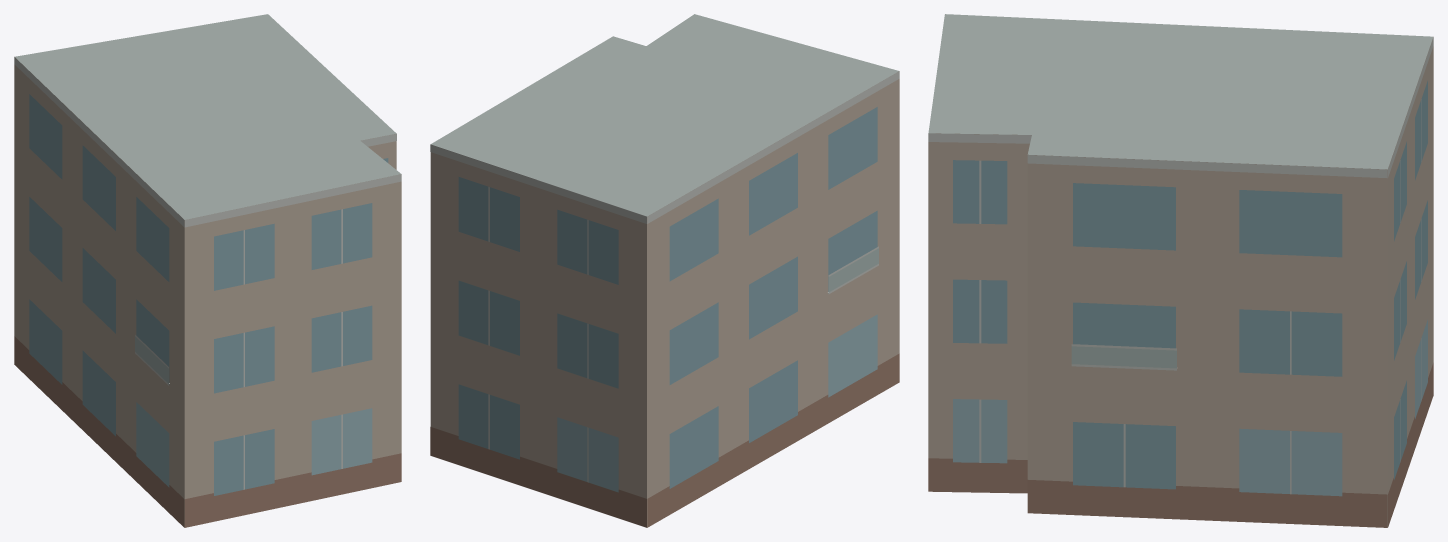
The model's file is survey-upis-32660178.glb.
3 views of the same model, side by side, from view 1: azimuth 30°, elevation 25°; view 2: azimuth 150°, elevation 25°; view 3: azimuth 270°, elevation 25° (orthographic). The views are drawn at different scales.
Visible parts, largest first — view 1: survey-upis-32660178.tmp; view 2: survey-upis-32660178.tmp; view 3: survey-upis-32660178.tmp.
Part boxes in pixels (box(x1,y1,x2,y2)): survey-upis-32660178.tmp: box(14, 14, 401, 527); survey-upis-32660178.tmp: box(430, 14, 899, 527); survey-upis-32660178.tmp: box(928, 14, 1433, 527).
Size of the model in its own units: 9.31 by 10 by 12.79.
